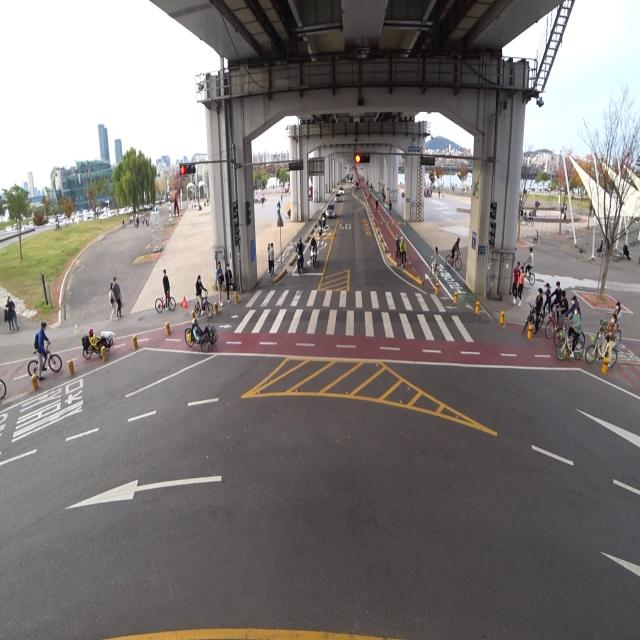Car: (338, 181, 347, 197), (327, 204, 336, 218), (336, 193, 344, 205)
Motorcycle: (294, 236, 304, 274), (313, 216, 326, 242), (309, 233, 317, 266), (319, 208, 329, 228)
